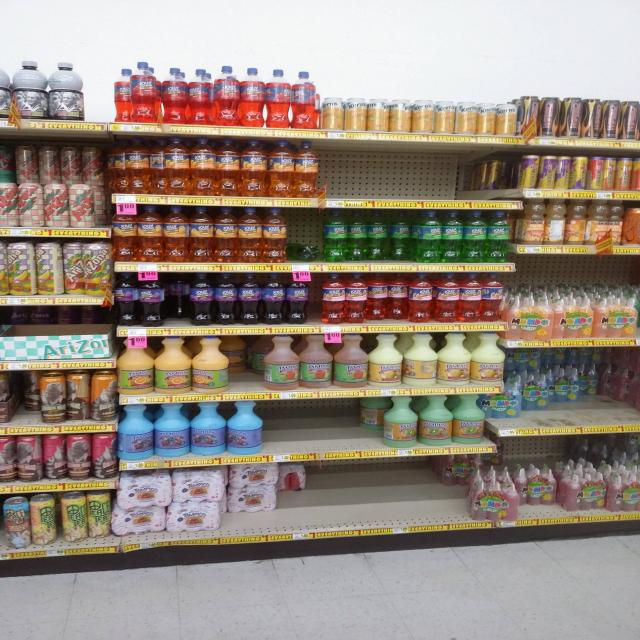unorganised: (227, 467, 276, 510), (479, 375, 524, 417), (516, 465, 560, 504), (223, 335, 265, 375), (548, 365, 579, 404), (575, 363, 610, 395), (390, 212, 412, 262), (524, 372, 552, 408), (275, 464, 307, 491), (170, 277, 189, 321), (286, 241, 318, 260)
